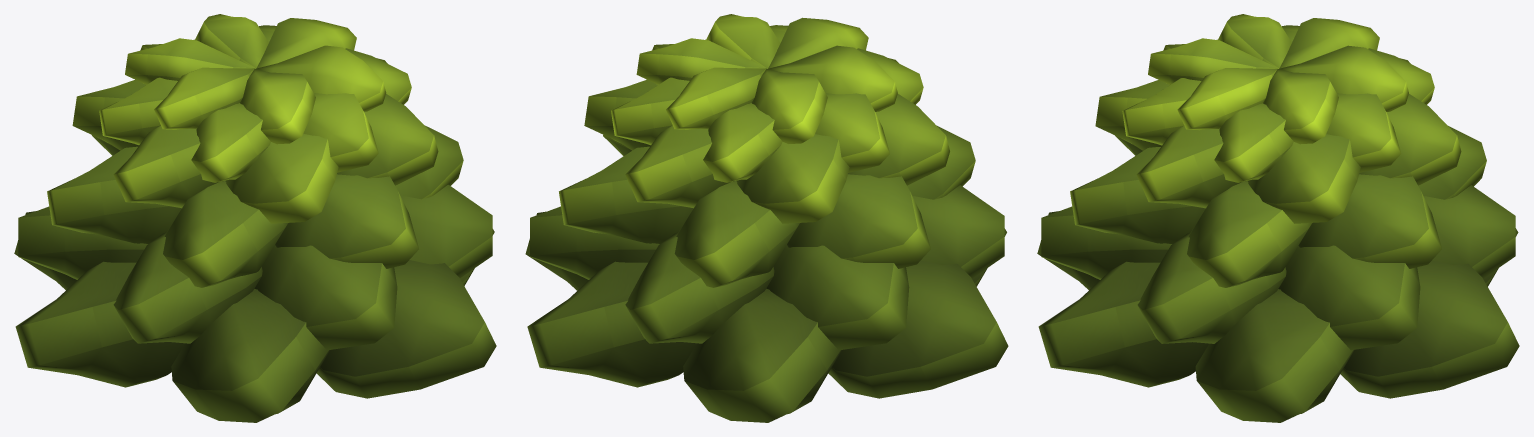
File: bushes_small_plain_LOD_group.fbx
The picture shows the model from 3 angles, left to right: view 1: azimuth 30°, elevation 25°; view 2: azimuth 150°, elevation 25°; view 3: azimuth 270°, elevation 25°; orthographic projection.
Visible parts, largest first — view 1: bushes_small_plain_LOD0; view 2: bushes_small_plain_LOD0; view 3: bushes_small_plain_LOD0.
Boxes of the visible parts, x1,y1,x2,y2 form: bushes_small_plain_LOD0: (14,14,496,422); bushes_small_plain_LOD0: (525,14,1008,422); bushes_small_plain_LOD0: (1037,14,1519,422).
Size of what is drawn, in the model's own units: 181 by 111 by 166.
1 material, 1 textured.
